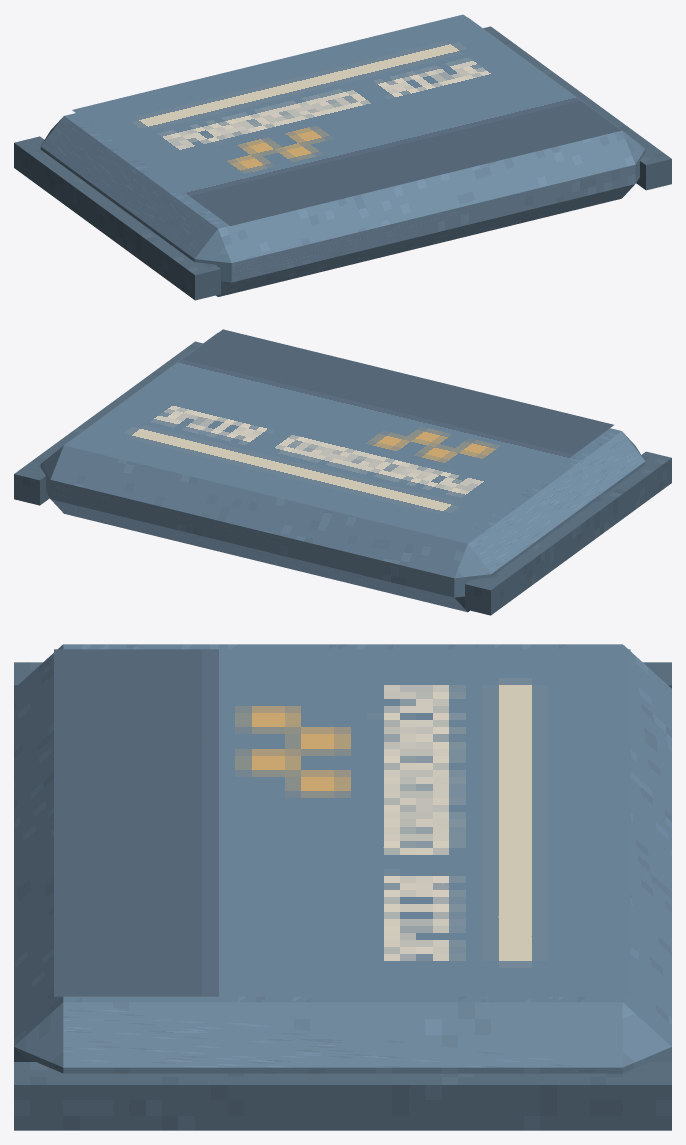
Rendered from milk_powder.glb.
3 renders of one model, top to bottom at view 1: azimuth 30°, elevation 25°; view 2: azimuth 150°, elevation 25°; view 3: azimuth 270°, elevation 25°, orthographic. The views are drawn at different scales.
Parts seen in each view (by area): view 1: block_printed sachet panel, block_filled laminated sachet, block_crimped closure (×2); view 2: block_printed sachet panel, block_filled laminated sachet, block_crimped closure (×2); view 3: block_printed sachet panel, block_filled laminated sachet, block_crimped closure (×2).
Boxes of the visible parts, x1,y1,x2,y2 form: block_printed sachet panel: [72, 14, 621, 225]; block_filled laminated sachet: [40, 17, 645, 296]; block_crimped closure (×2): [14, 26, 671, 300]; block_printed sachet panel: [64, 329, 613, 540]; block_filled laminated sachet: [40, 333, 645, 612]; block_crimped closure (×2): [14, 341, 671, 615]; block_printed sachet panel: [54, 649, 630, 996]; block_filled laminated sachet: [14, 644, 671, 1073]; block_crimped closure (×2): [14, 662, 671, 1130].
Size of the model in its own units: 0.0756 by 0.0107 by 0.0497.
Materials: 1 (1 with a texture image).
